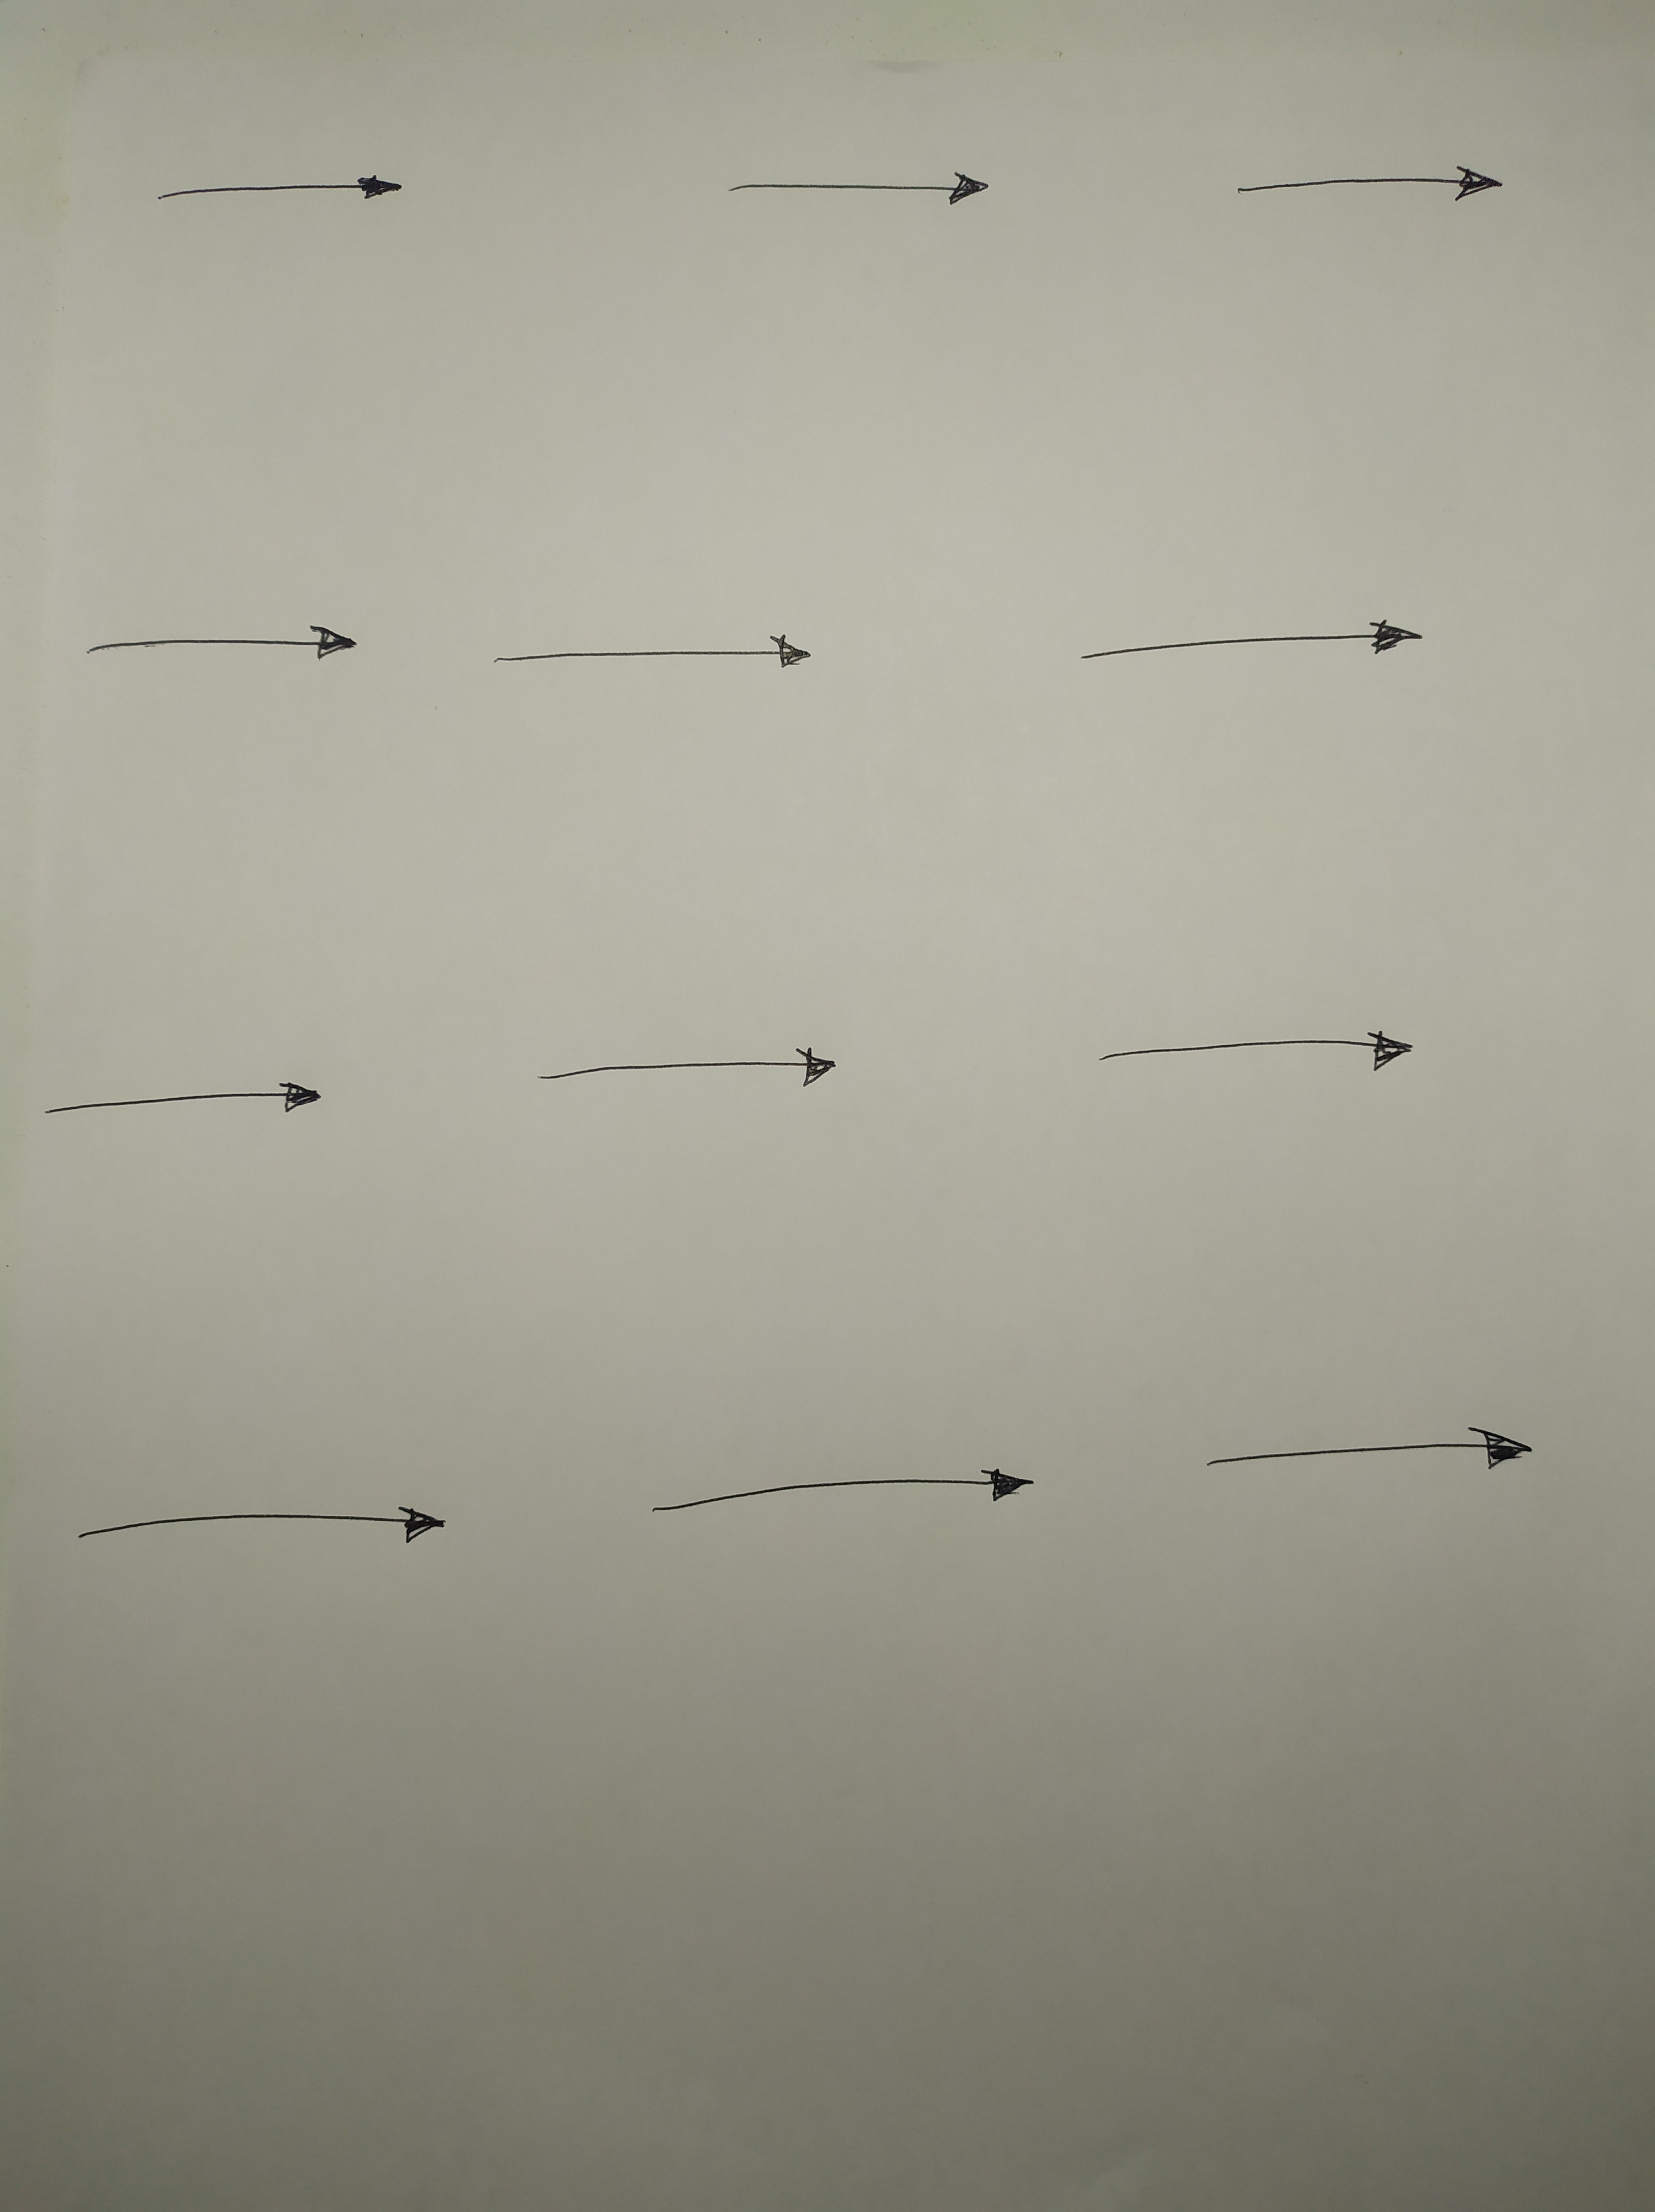arrow_line_right: (1050, 579, 1455, 705), (1059, 999, 1466, 1116), (49, 1484, 480, 1586), (485, 1013, 874, 1123), (1151, 1407, 1570, 1505), (1193, 139, 1568, 247), (469, 589, 821, 700), (610, 1454, 1064, 1536), (678, 141, 1027, 228), (125, 130, 419, 224), (30, 1048, 353, 1131), (75, 608, 377, 688)
